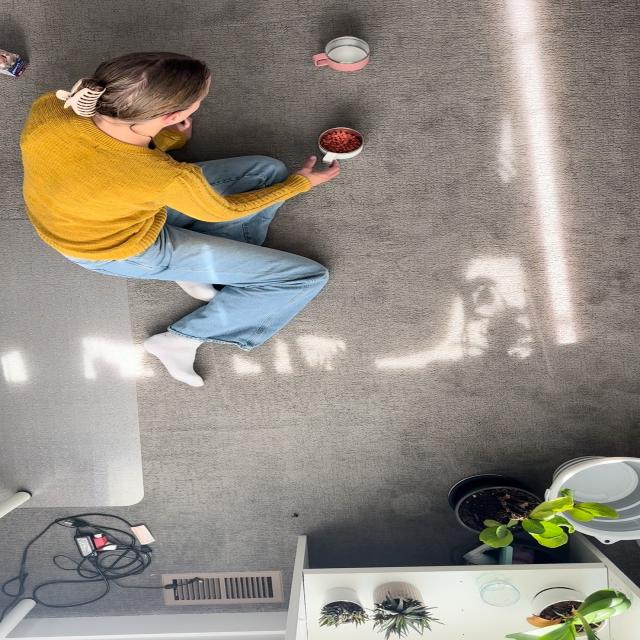IBC: (312, 37, 369, 72), (319, 128, 363, 163)
